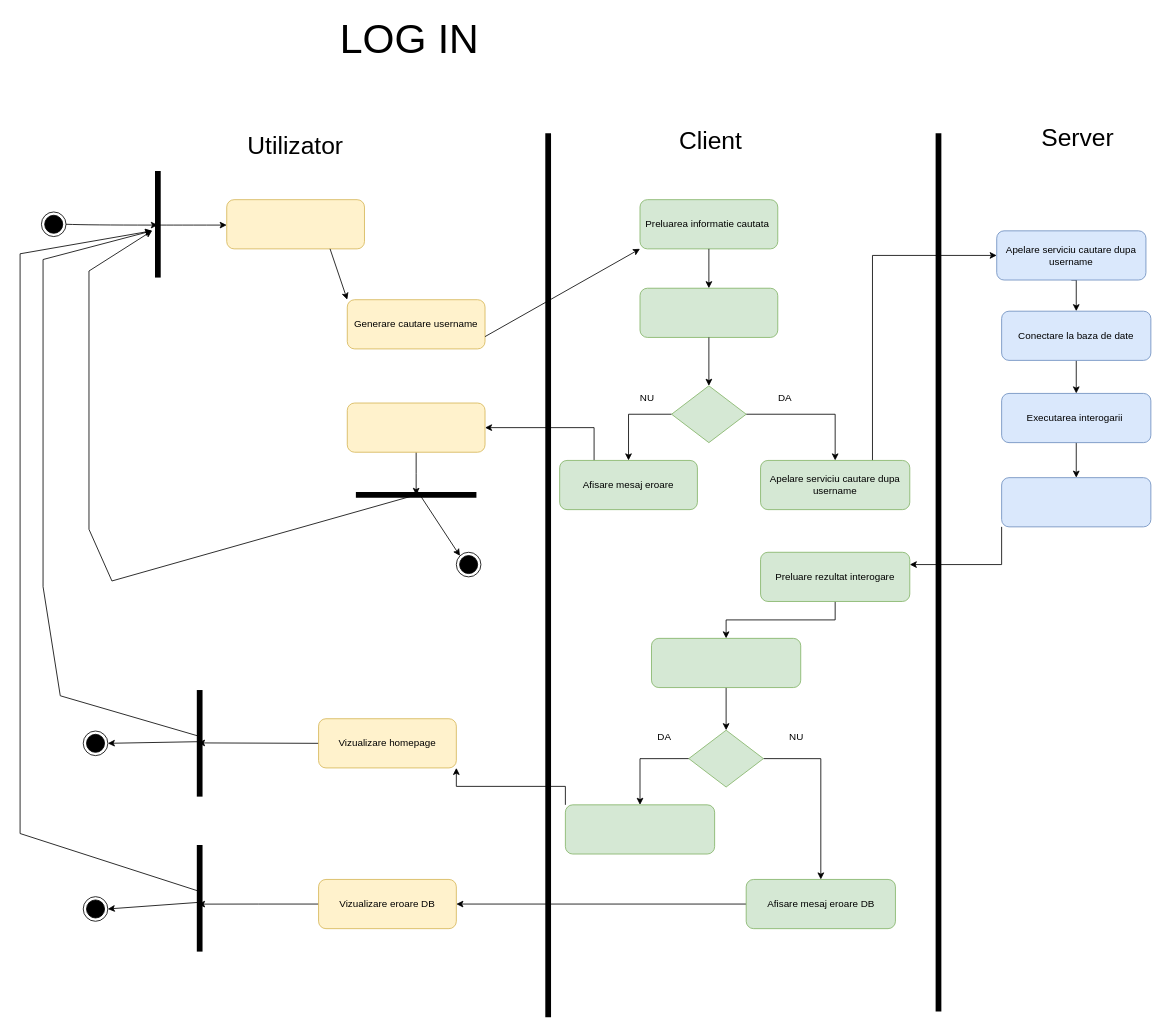
The diagram is 1165 pixels wide and 1035 high, and some of its shapes have lost their labels. The centre of each missing label's shape, as x and y in pixels:
"Analiza rezultat" belongs at pixel 726 663.
"Deconectarea de la baza de date" belongs at pixel 1076 502.
"Introducere username si parola" belongs at pixel 295 224.
"Username-ul si parola corespund" belongs at pixel 640 829.
"Validare username si parola" belongs at pixel 708 312.
"Vizualizare mesaj eroare" belongs at pixel 415 427.
